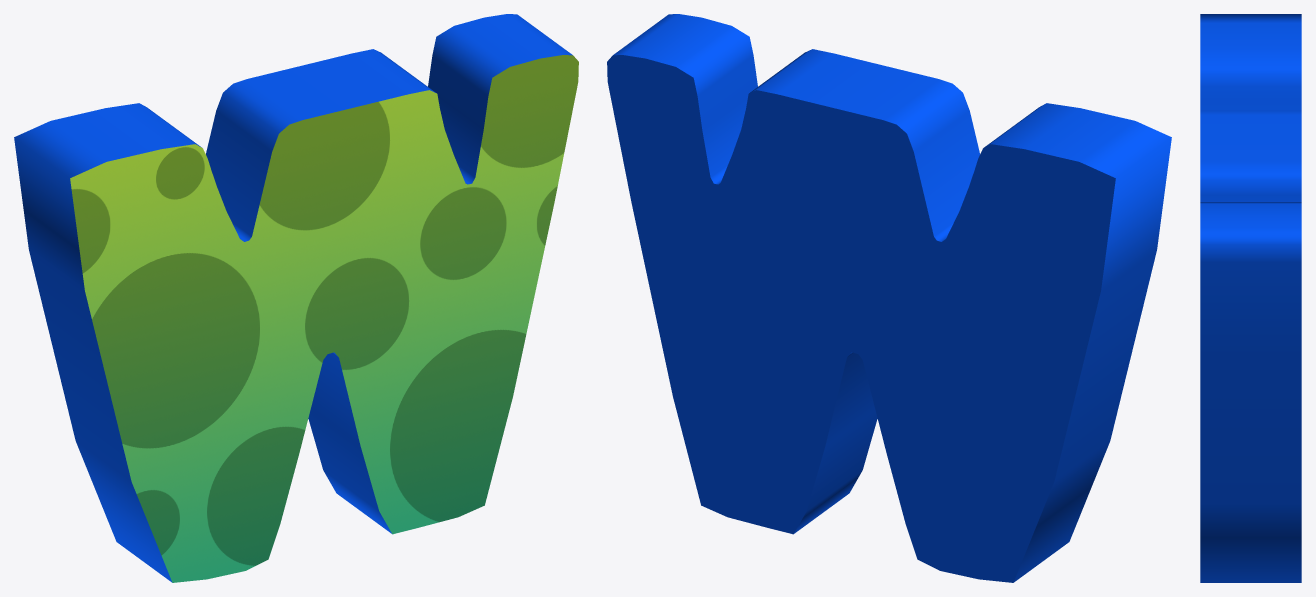
3 renders of one model, left to right at view 1: azimuth 30°, elevation 25°; view 2: azimuth 150°, elevation 25°; view 3: azimuth 270°, elevation 25°, orthographic. The views are drawn at different scales.
Visible parts, largest first — view 1: W; view 2: W; view 3: W.
Boxes of the visible parts, box(x1,y1,x2,y2) form: W: box(14, 14, 578, 582); W: box(607, 14, 1171, 582); W: box(1200, 14, 1301, 582).
Size of the model in its own units: 105 by 87.23 by 20.
Materials: 2 (1 with a texture image).
